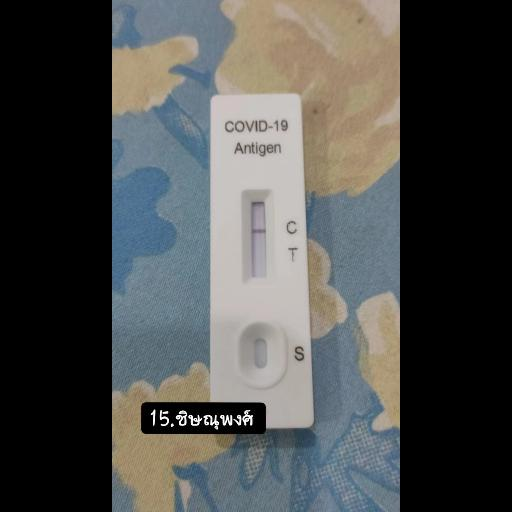Neg: (209, 94, 315, 430)
